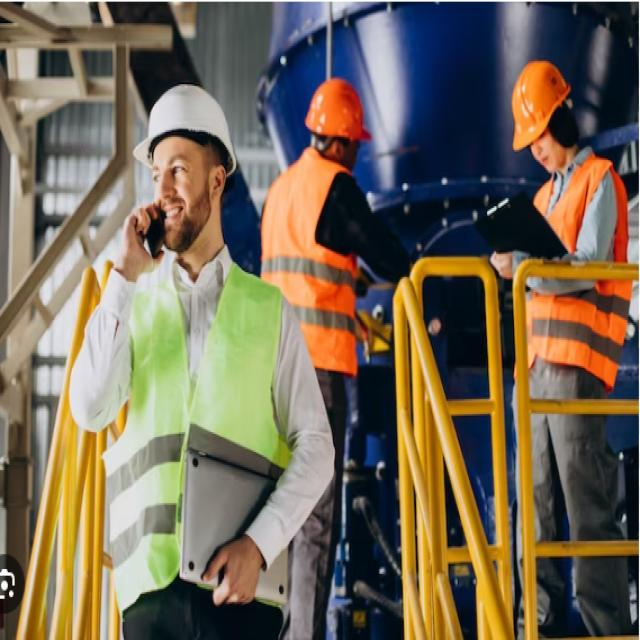helmet: (144, 80, 240, 254), (504, 55, 581, 183), (302, 75, 373, 178)
vest: (102, 248, 298, 623), (512, 152, 632, 394), (253, 150, 376, 383)
